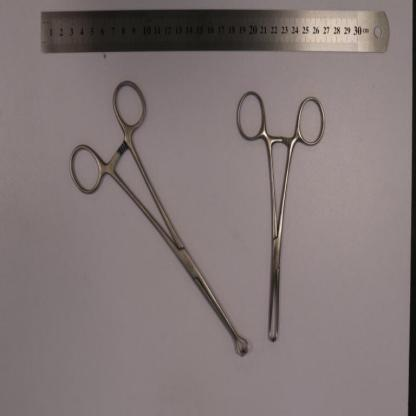8 Babcock Tissue Forceps: (68, 74, 249, 358)
Allis Tissue Forceps: (235, 90, 326, 340)
